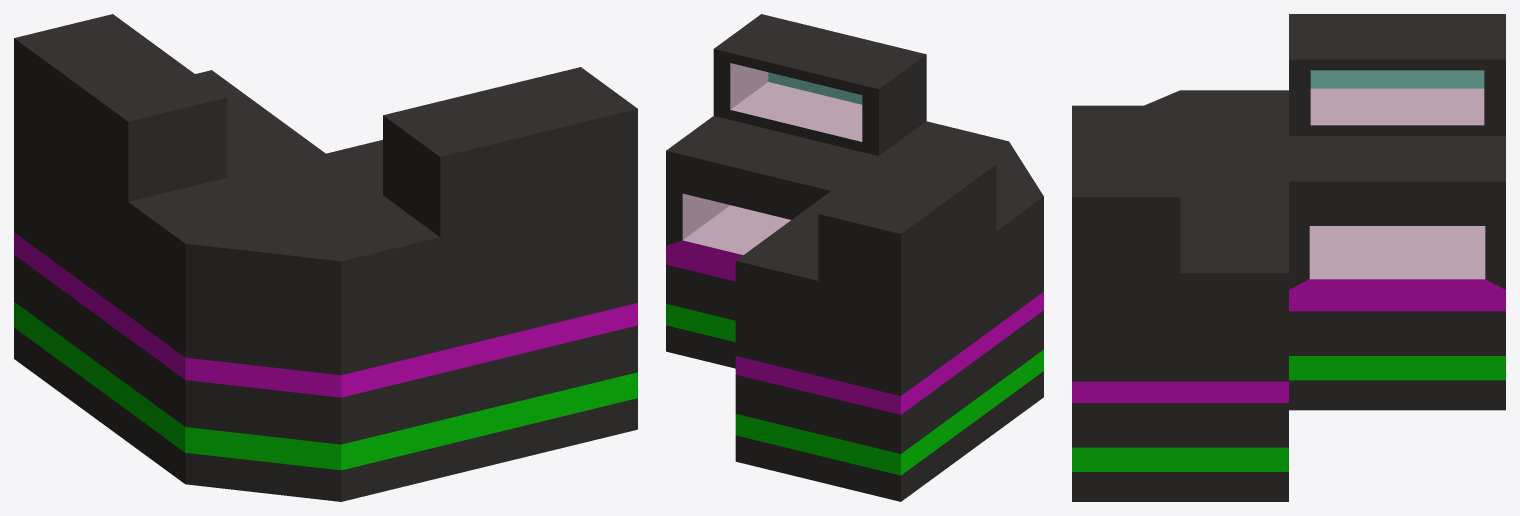
The model's file is Counter Corner.fbx.
3 views of the same model, side by side, from view 1: azimuth 30°, elevation 25°; view 2: azimuth 150°, elevation 25°; view 3: azimuth 270°, elevation 25° (orthographic). The views are drawn at different scales.
Parts seen in each view (by area): view 1: Counter Corner; view 2: Counter Corner; view 3: Counter Corner.
Boxes of the visible parts, x1,y1,x2,y2 form: Counter Corner: (14,14,637,501); Counter Corner: (666,14,1043,501); Counter Corner: (1072,14,1505,501).
Bounding box in the file's own units: 2000 × 1550 × 2000.
